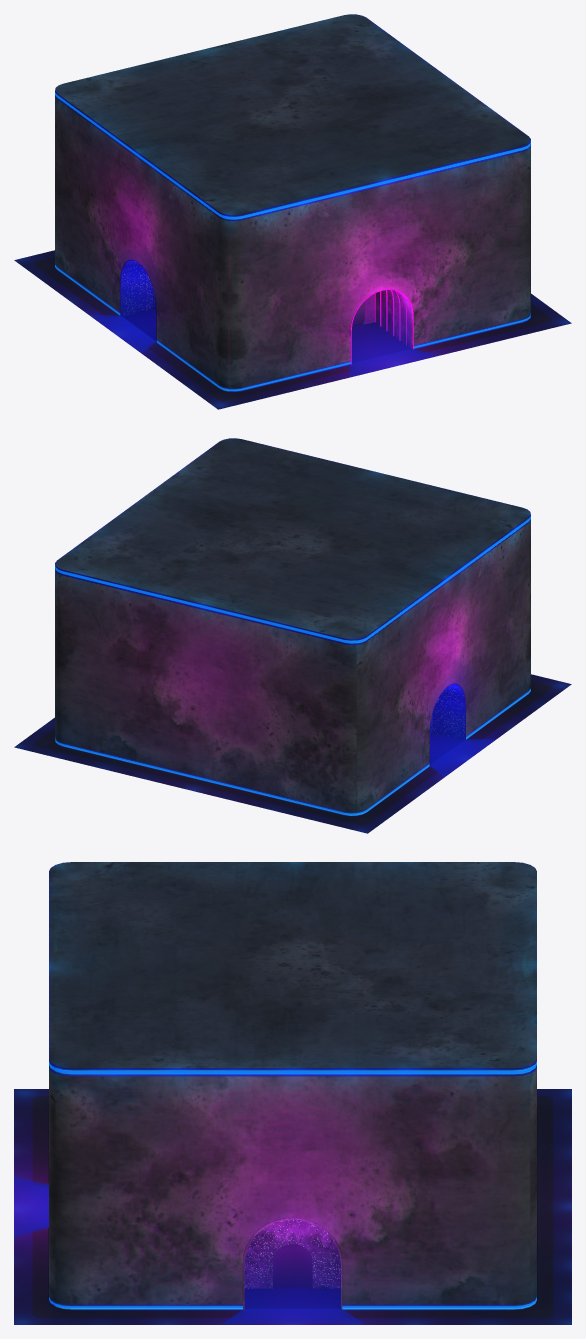
Rendered from mainstructure.glb.
3 views of the same model, one above another, from view 1: azimuth 30°, elevation 25°; view 2: azimuth 150°, elevation 25°; view 3: azimuth 270°, elevation 25° (orthographic). The views are drawn at different scales.
Parts seen in each view (by area): view 1: Walls, Roof, Floor3, EntranceGradients.004, Entrance.004, Entrance, Roof.001, Walls.001; view 2: Walls, Roof, Floor3, EntranceGradients.004, Entrance, Roof.001, Walls.001; view 3: Walls, Roof, Floor3, EntranceGradients.004, Entrance, Roof.001, Walls.001.
Part boxes in pixels (x1,y1,x2,y2): Walls: [55, 96, 530, 392]; Roof: [55, 14, 530, 220]; Floor3: [14, 250, 571, 409]; EntranceGradients.004: [90, 267, 438, 376]; Entrance.004: [355, 290, 412, 349]; Entrance: [120, 259, 156, 342]; Roof.001: [55, 93, 530, 219]; Walls.001: [55, 265, 530, 390]; Walls: [55, 520, 530, 816]; Roof: [55, 438, 530, 644]; Floor3: [14, 674, 571, 833]; EntranceGradients.004: [430, 691, 495, 776]; Entrance: [429, 683, 465, 766]; Roof.001: [55, 517, 530, 643]; Walls.001: [55, 689, 530, 814]; Walls: [49, 1067, 536, 1310]; Roof: [49, 862, 536, 1076]; Floor3: [14, 1089, 571, 1324]; EntranceGradients.004: [14, 1177, 363, 1323]; Entrance: [243, 1218, 342, 1309]; Roof.001: [49, 1062, 536, 1073]; Walls.001: [49, 1298, 536, 1308].
Size of what is drawn, in the model's own units: 32 by 15.39 by 32.
Materials: 28 (22 with a texture image).
